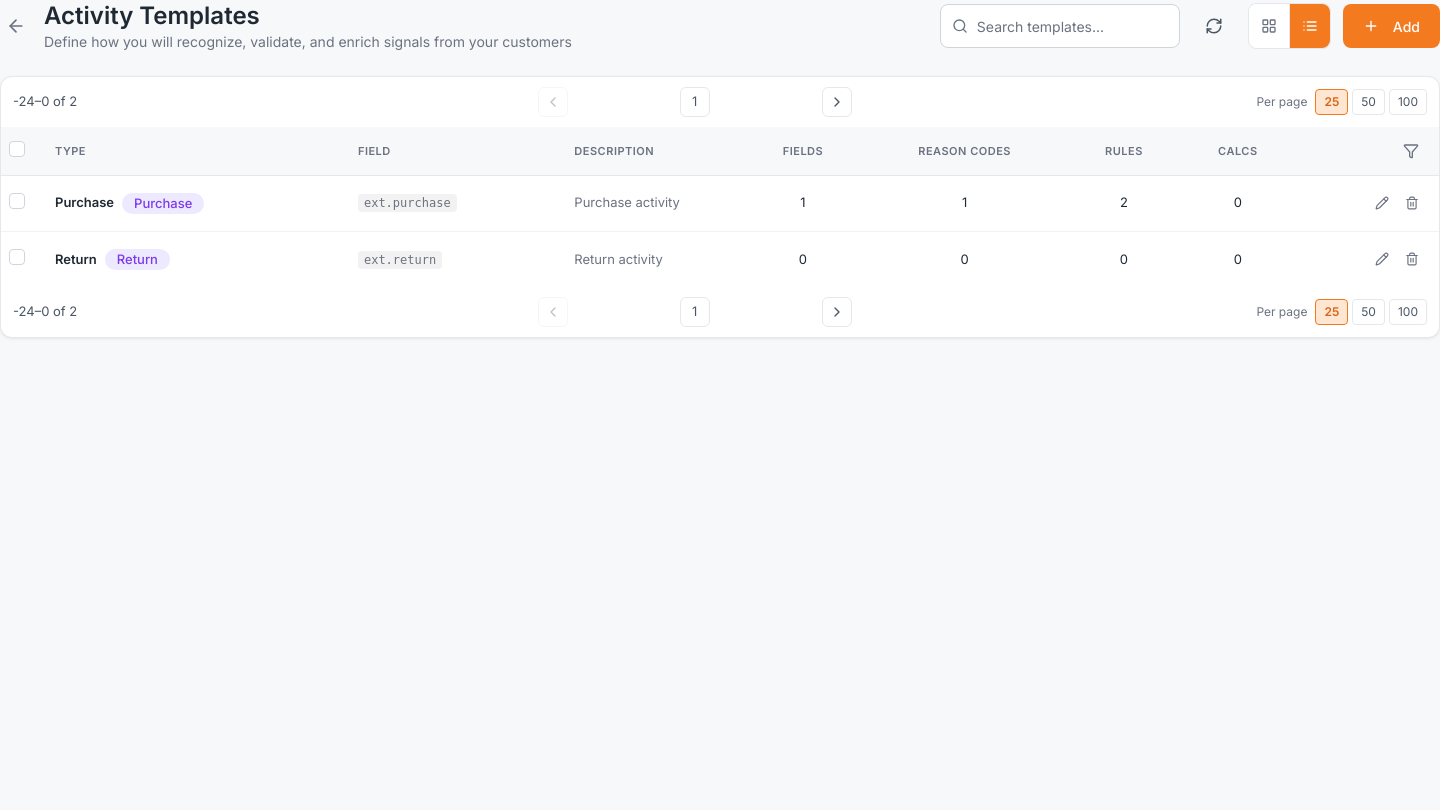
Test case: ActivityTemplatesPage › create modal flow › clicking Add opens the create modal
The width and height of the screenshot is (1440, 810).
Click the button with test id "activity-templates-add". click: (1391, 26)
box: [1343,4,1439,48]
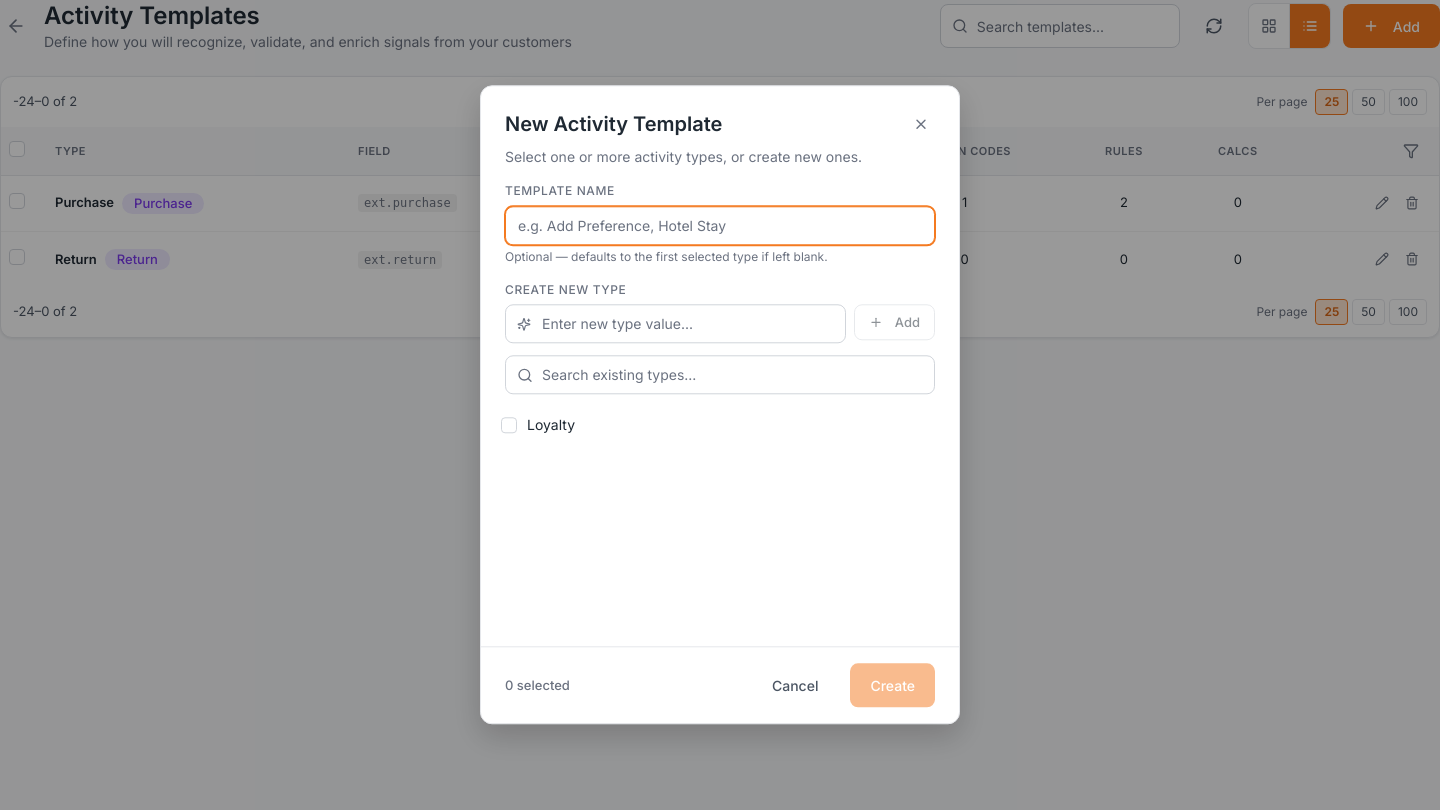
Expected: the heading "New Activity Template" is shown, [505,110,722,138]
